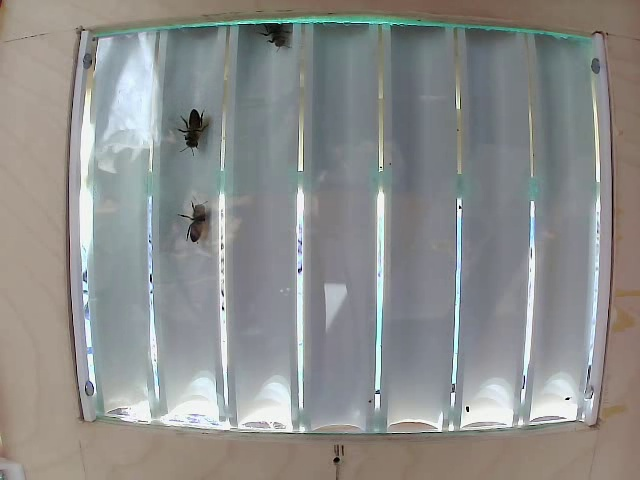bee: (183, 200, 215, 254), (177, 108, 213, 154), (262, 19, 301, 56)
